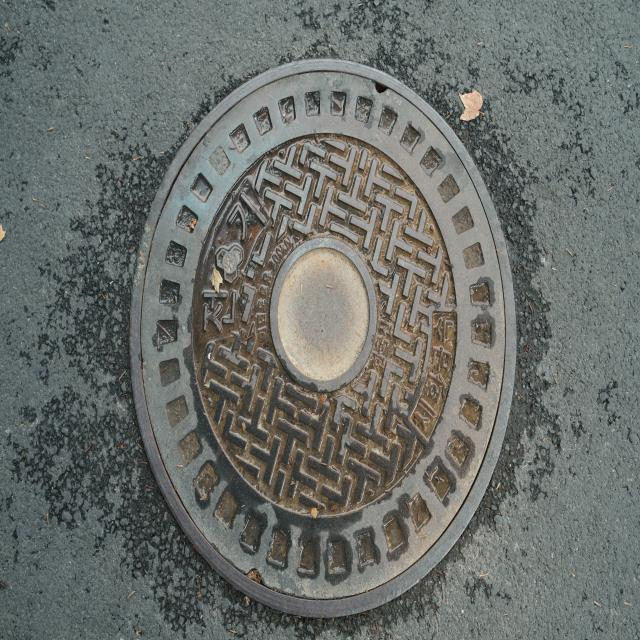manhole: (131, 60, 516, 617)
